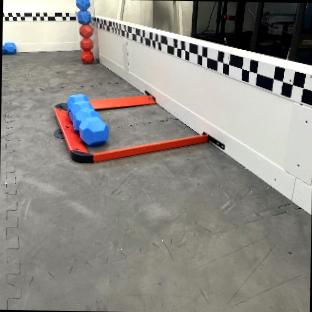Parking-R: (54, 104, 207, 162)
V5_BLUE: (67, 93, 108, 145), (2, 42, 15, 53)
V5_RED: (80, 23, 92, 61)
